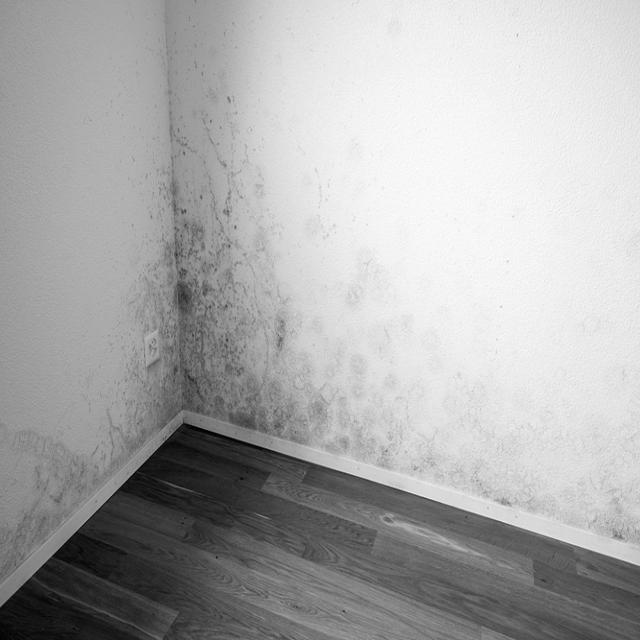stain marks: (0, 26, 431, 580)
